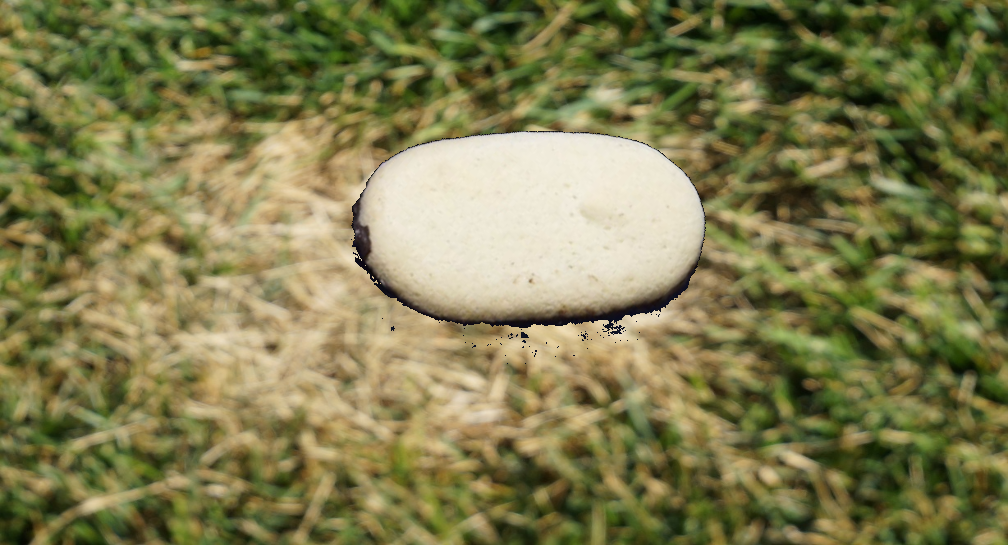test: (298, 17, 747, 465)
